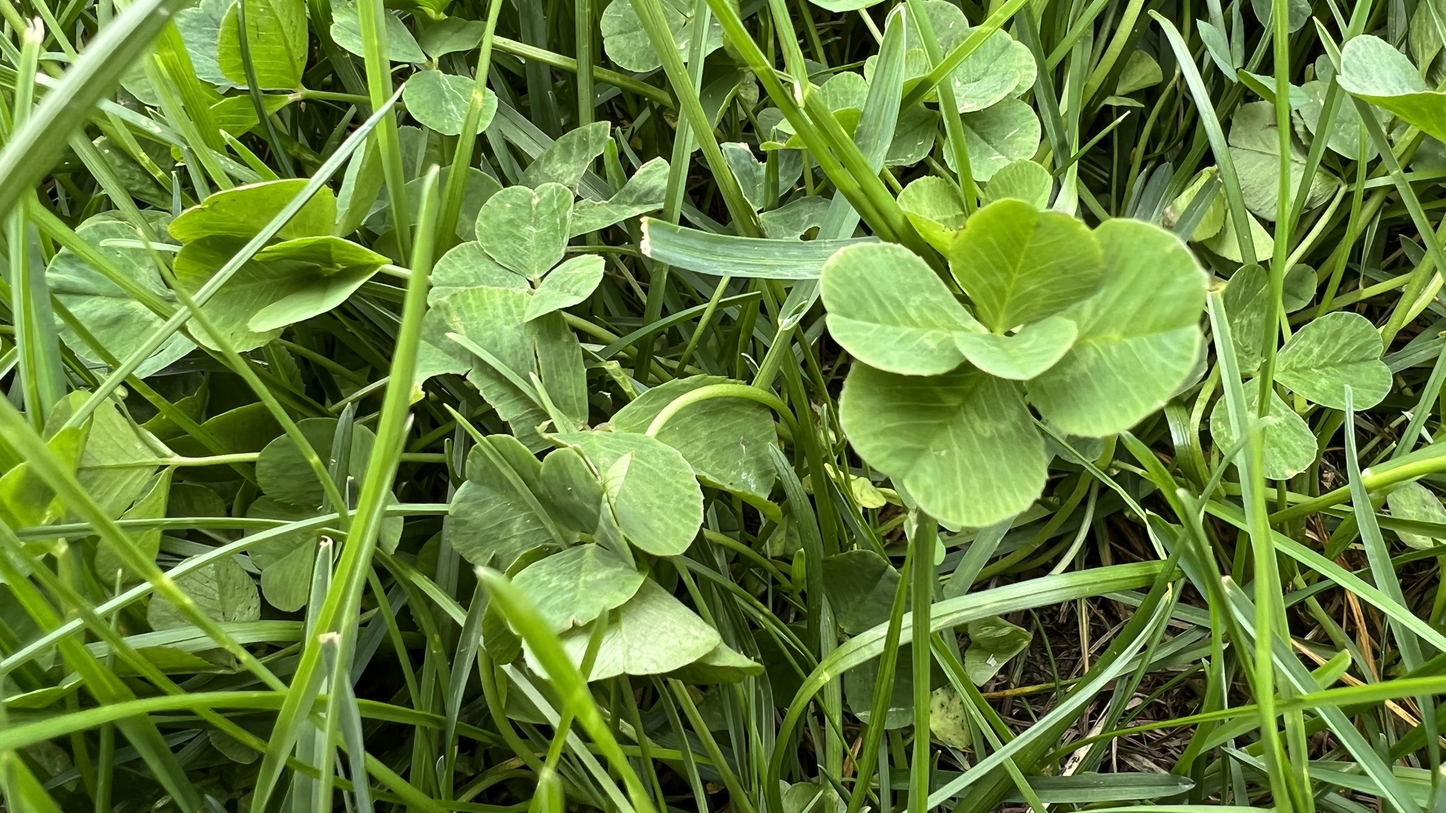5-Leaf-Clovers: (361, 132, 937, 348)
